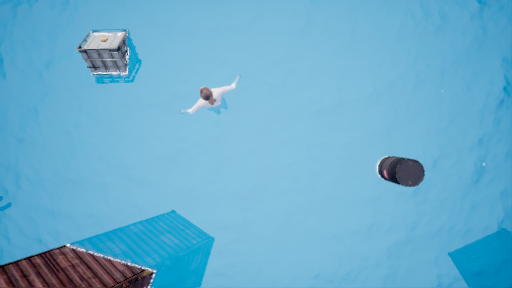person: (176, 77, 239, 112)
